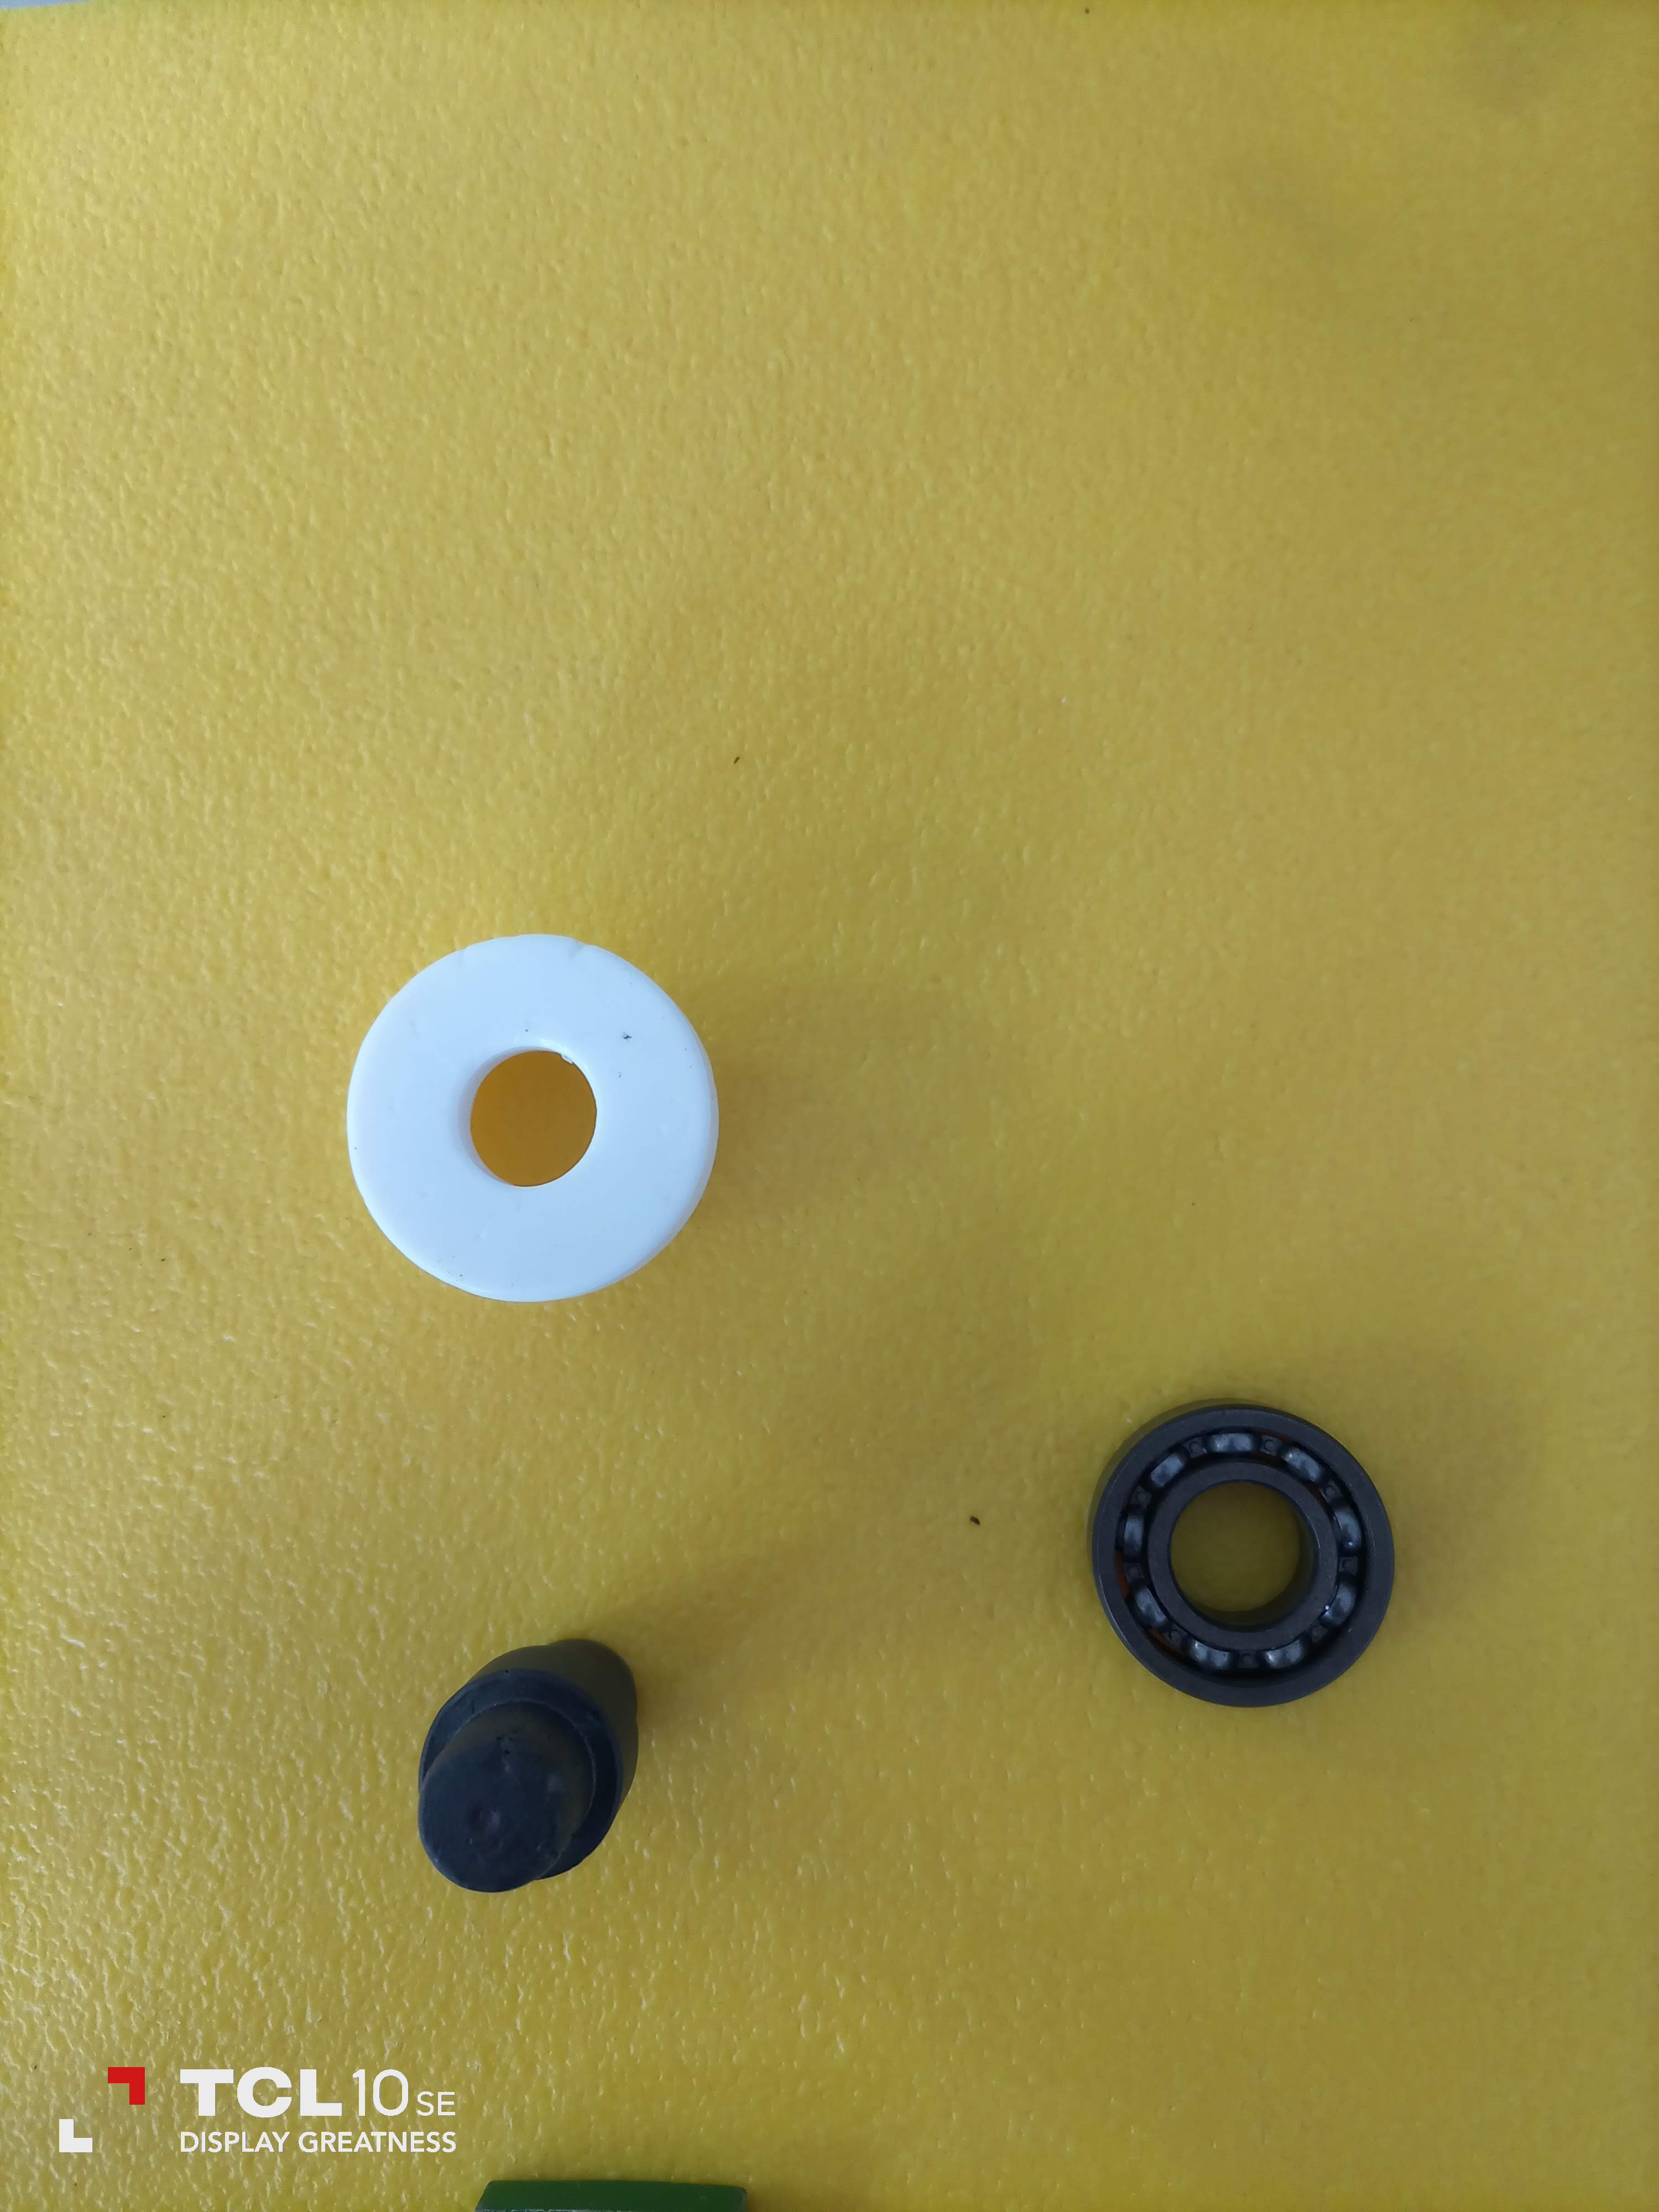Ardatza: (413, 1655, 615, 1898)
Roda: (1080, 1420, 1389, 1710)
Tapa: (298, 928, 727, 1301)
